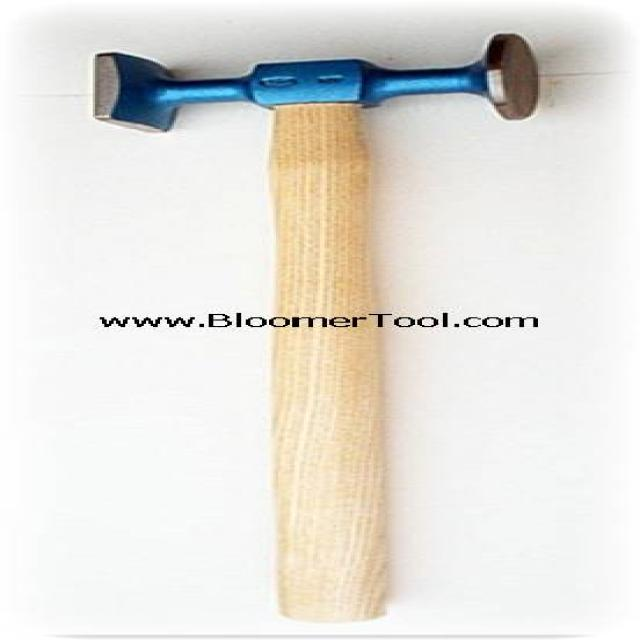hammer: (69, 37, 543, 625)
